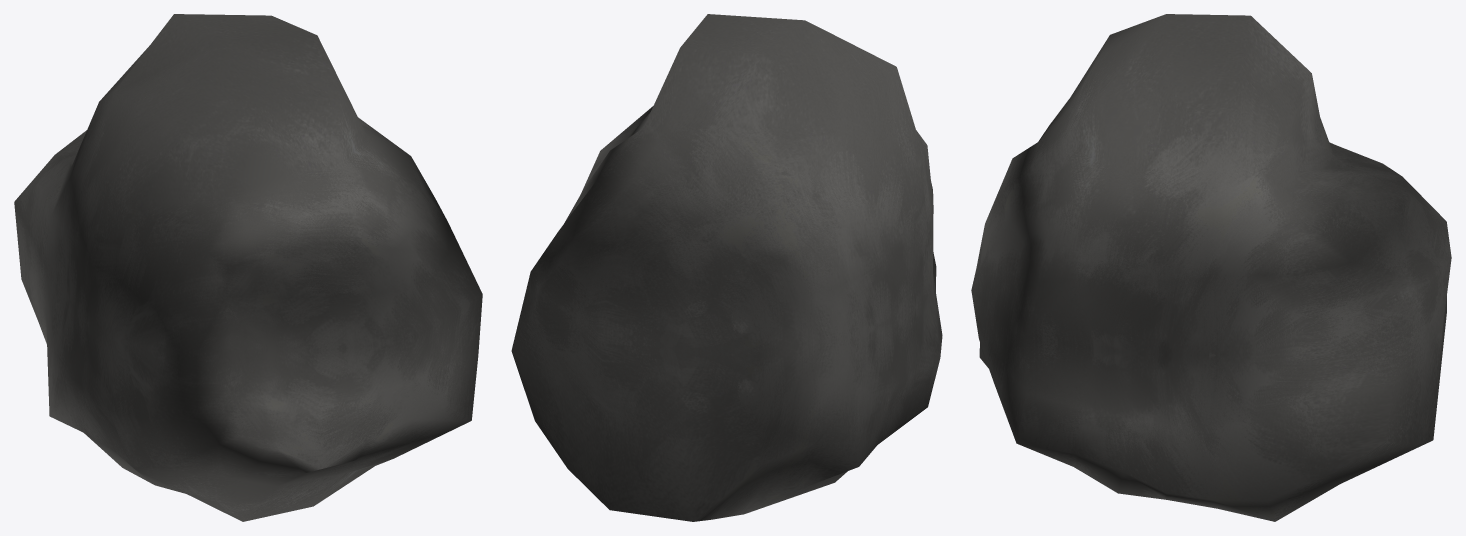
Rendered from Rock04_Geo.fbx.
The picture shows the model from 3 angles, left to right: view 1: azimuth 30°, elevation 25°; view 2: azimuth 150°, elevation 25°; view 3: azimuth 270°, elevation 25°; orthographic projection. The views are drawn at different scales.
Parts seen in each view (by area): view 1: Rock04_Geo; view 2: Rock04_Geo; view 3: Rock04_Geo.
Boxes of the visible parts, x1,y1,x2,y2 form: Rock04_Geo: (14, 14, 482, 521); Rock04_Geo: (511, 14, 942, 521); Rock04_Geo: (971, 14, 1451, 521).
Size of the model in its own units: 67.35 by 87.21 by 84.88.
